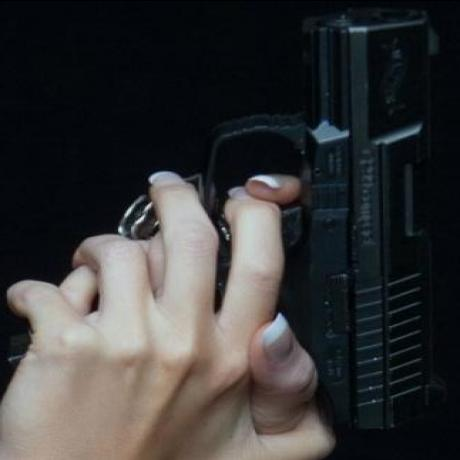1: (0, 164, 339, 460)
weapon: (92, 12, 442, 293)
